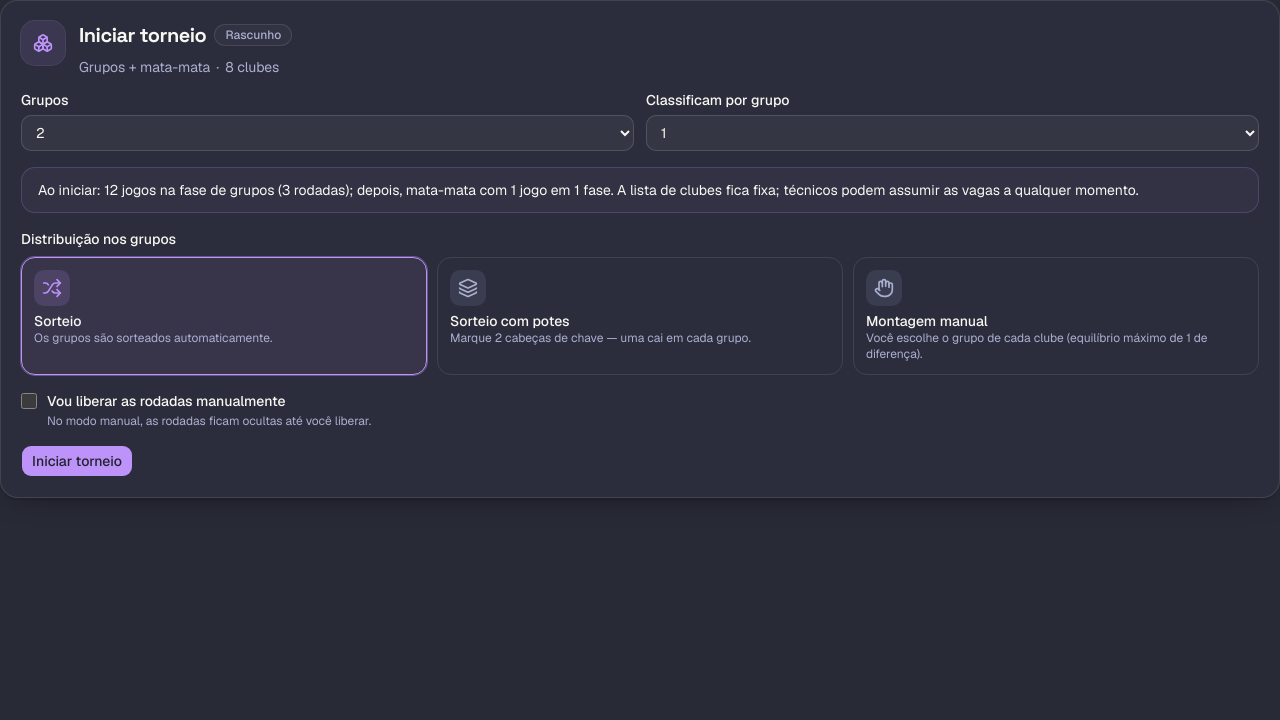
Test: IniciarGruposPanel — prévia vem do MESMO motor da geração › N=8: a prévia ecoa previaGrupos no default derivado e reage à troca de K
Select "2" in the dropdown named "classificadosPorGrupo". click: [952, 133]
box: [646, 115, 1259, 151]
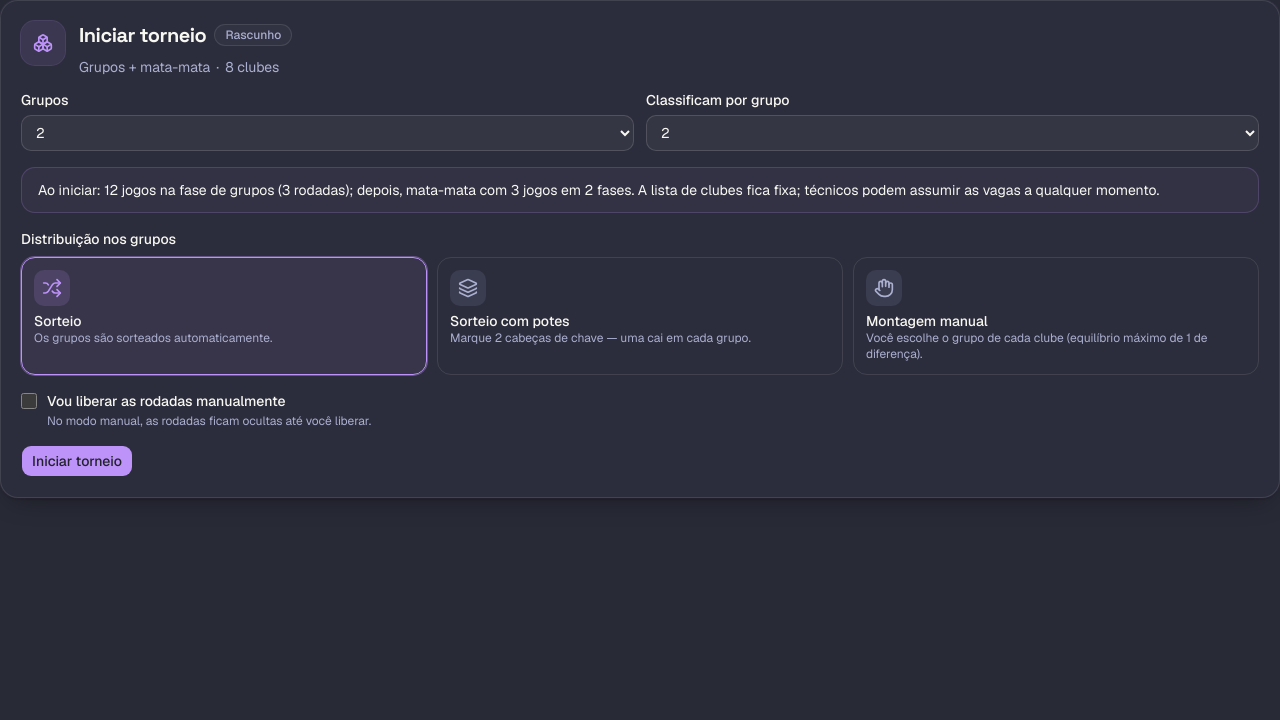
Check: the text "3 jogos em 2 fases" is shown, box [38, 181, 1159, 199]
